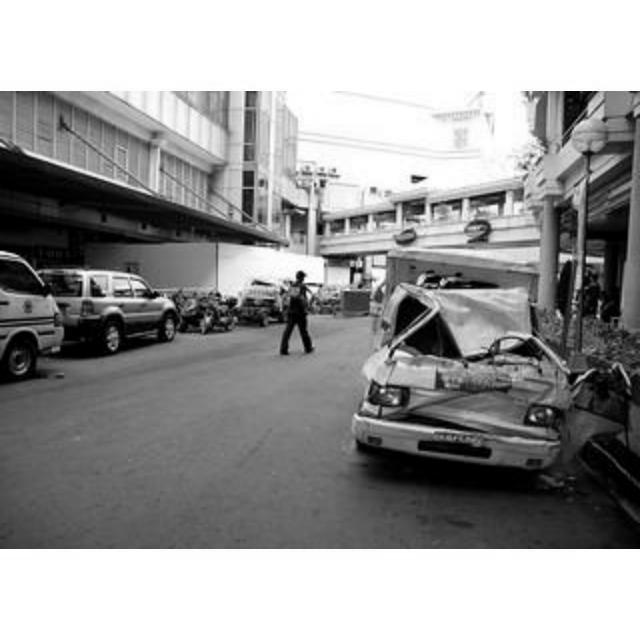boot-dent: (388, 369, 526, 431)
roof-dent: (400, 269, 530, 347)
